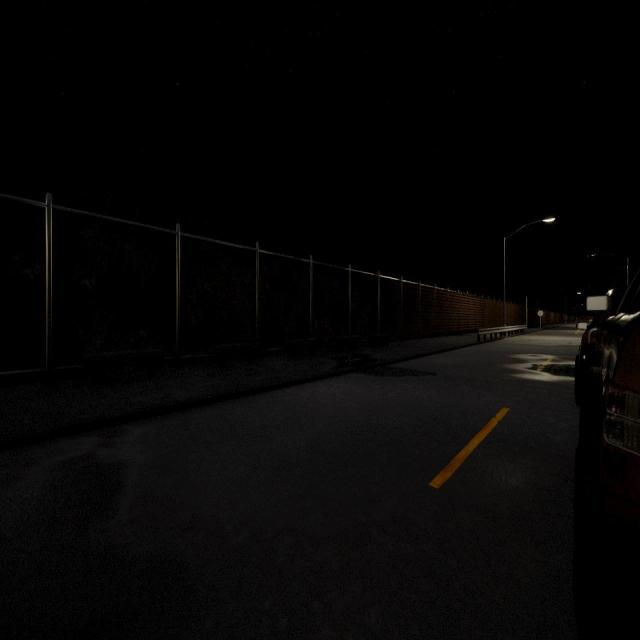Traffic_Signs: (537, 310, 544, 317)
Vehicle: (575, 270, 639, 524)
